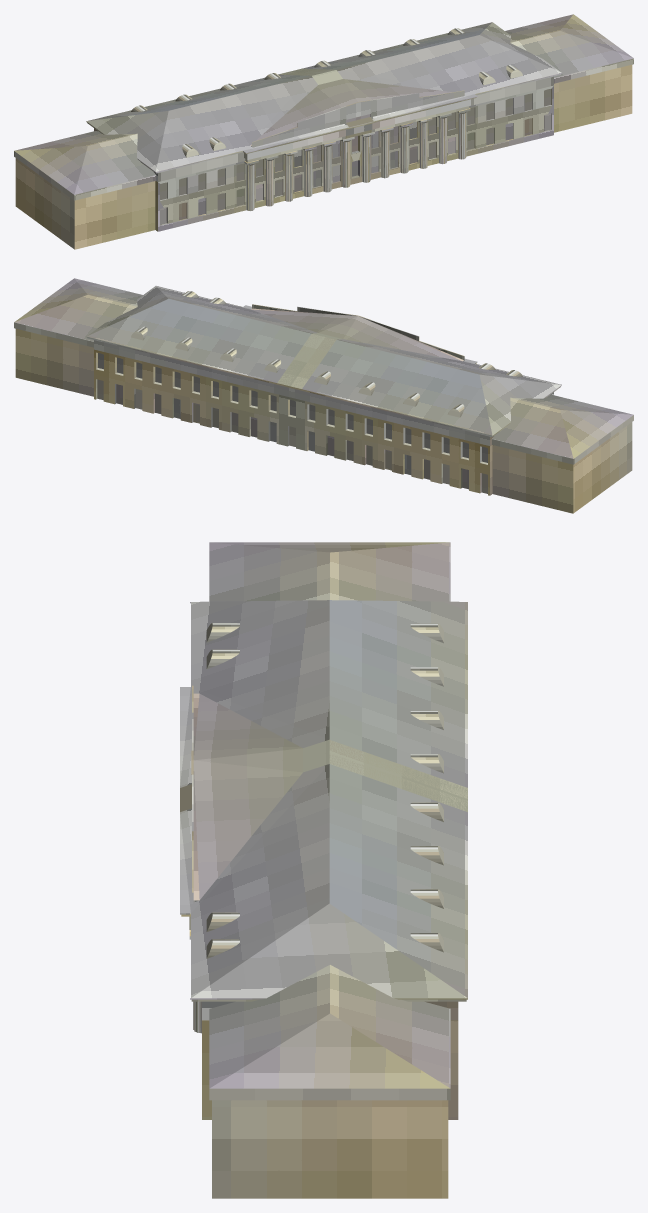
3 renders of one model, top to bottom at view 1: azimuth 30°, elevation 25°; view 2: azimuth 150°, elevation 25°; view 3: azimuth 270°, elevation 25°, orthographic. The views are drawn at different scales.
Parts seen in each view (by area): view 1: Untitled; view 2: Untitled; view 3: Untitled.
Part boxes in pixels (x1,y1,x2,y2): Untitled: (14, 14, 633, 249); Untitled: (14, 278, 633, 513); Untitled: (180, 542, 467, 1198).
Bounding box in the file's own units: 130 × 19.4 × 29.02.
4 materials, 3 textured.
